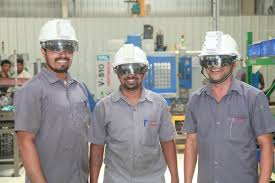Person_wearing_helmet: (34, 8, 81, 52), (195, 27, 237, 69), (108, 38, 152, 76)
